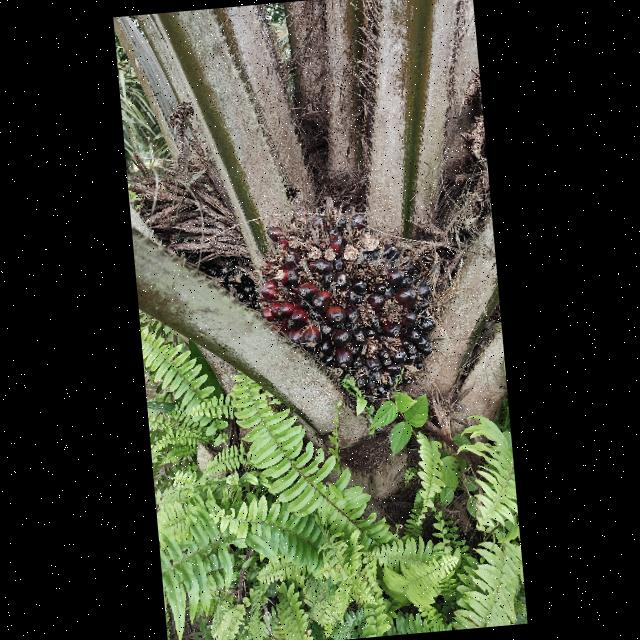Unripe: (255, 205, 434, 404)
